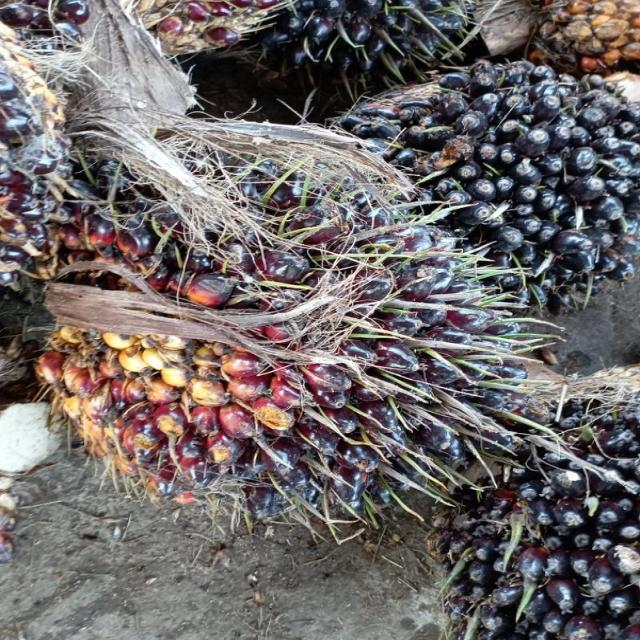fraksi 00: (61, 142, 507, 528), (346, 56, 640, 297), (435, 368, 640, 640)
